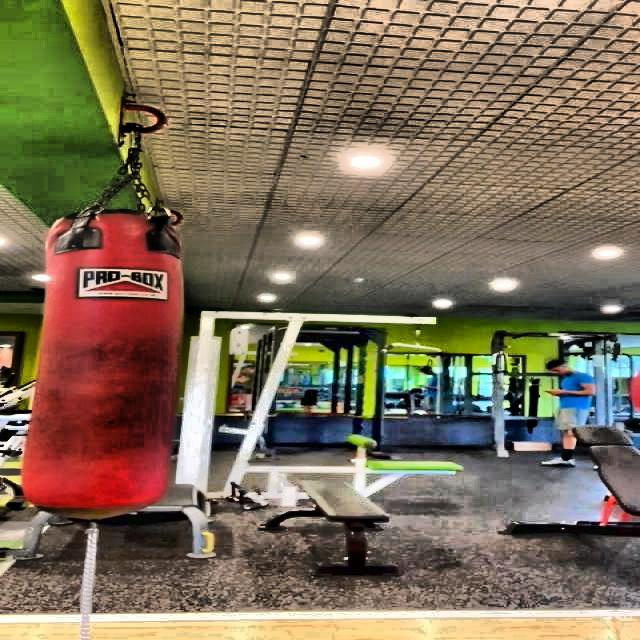boxing-bag: (31, 102, 185, 526)
